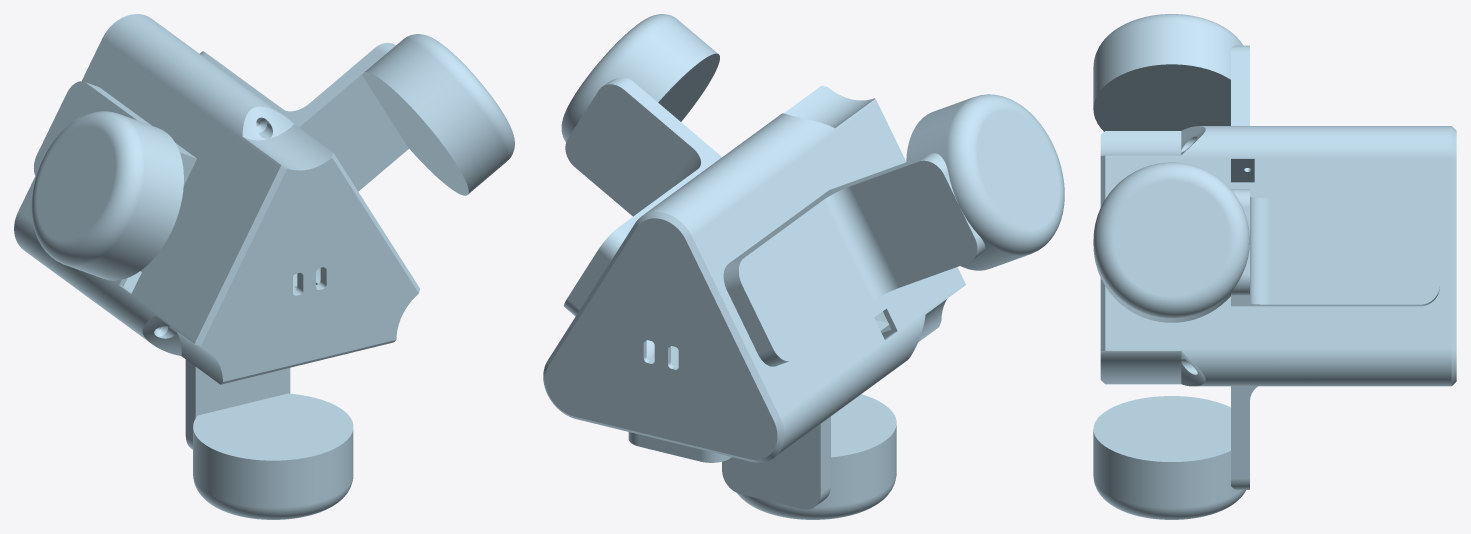
Rendered from acorn.obj.
3 renders of one model, left to right at view 1: azimuth 30°, elevation 25°; view 2: azimuth 150°, elevation 25°; view 3: azimuth 270°, elevation 25°, orthographic. The views are drawn at different scales.
Visible parts, largest first — view 1: mesh189, mesh130, mesh163, mesh3, mesh2, mesh45, mesh145, mesh147, mesh146, mesh156, mesh46, mesh157 (+12 smaller); view 2: mesh207, mesh130, mesh134, mesh142, mesh160, mesh45, mesh147, mesh146, mesh46, mesh9, mesh163, mesh135 (+15 smaller); view 3: mesh148, mesh152, mesh165, mesh36, mesh164, mesh45, mesh139, mesh3, mesh2, mesh145, mesh31, mesh153 (+11 smaller).
Part boxes in pixels (x1,y1,x2,y2): mesh189: (201,158,418,381); mesh130: (18,38,279,340); mesh163: (365,38,507,194); mesh3: (193,393,353,460); mesh2: (193,428,353,507); mesh45: (102,14,282,167); mesh145: (67,114,183,280); mesh147: (37,126,115,240); mesh146: (31,111,144,266); mesh156: (299,55,408,191); mesh46: (14,211,195,343); mesh157: (362,72,468,195); mesh207: (545,218,777,459); mesh130: (692,102,964,416); mesh134: (739,200,872,361); mesh142: (850,160,977,287); mesh160: (565,84,691,216); mesh45: (644,99,876,236); mesh147: (977,110,1059,229); mesh146: (947,94,1064,255); mesh46: (777,282,965,455); mesh9: (722,424,820,509); mesh163: (573,19,717,130); mesh135: (823,186,899,300); mesh148: (1105,158,1451,347); mesh152: (1270,198,1439,304); mesh165: (1113,181,1229,296); mesh36: (1105,347,1451,386); mesh164: (1093,162,1249,318); mesh45: (1105,126,1451,158); mesh139: (1093,64,1230,131); mesh3: (1093,396,1230,461); mesh2: (1093,429,1241,508); mesh145: (1093,22,1239,108); mesh31: (1100,351,1181,384); mesh153: (1250,197,1270,304).
Bounding box in the file's own units: 0.214 × 0.1876 × 0.153.
